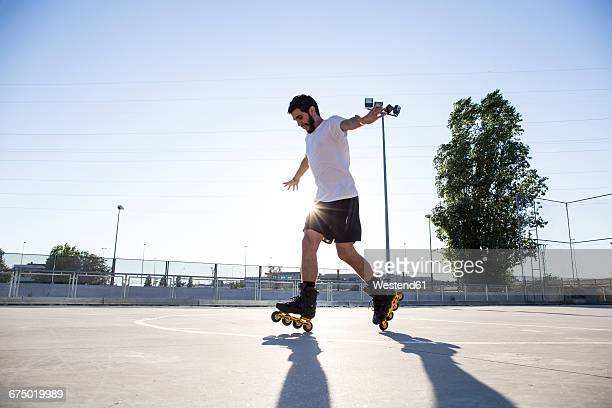roller_blade: (364, 285, 405, 334), (274, 286, 315, 333)
